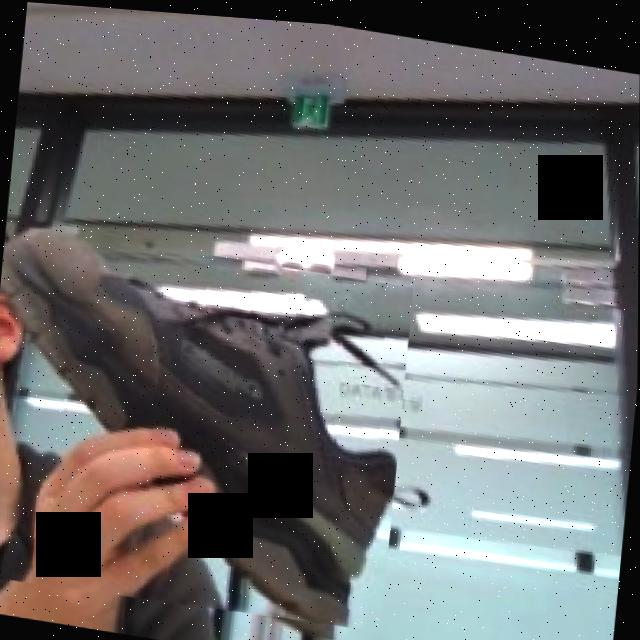shoe: (0, 221, 413, 635)
